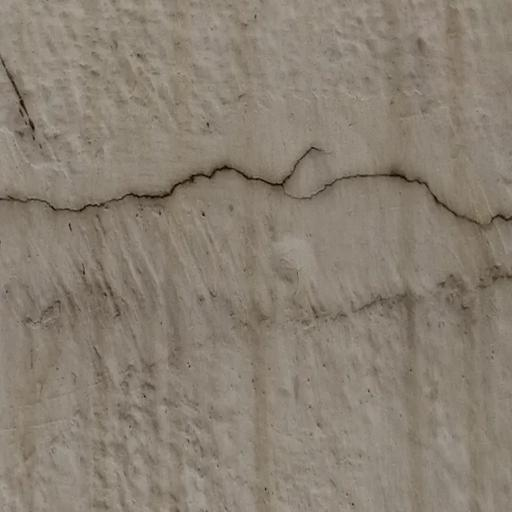minor_crack: (0, 139, 512, 254)
